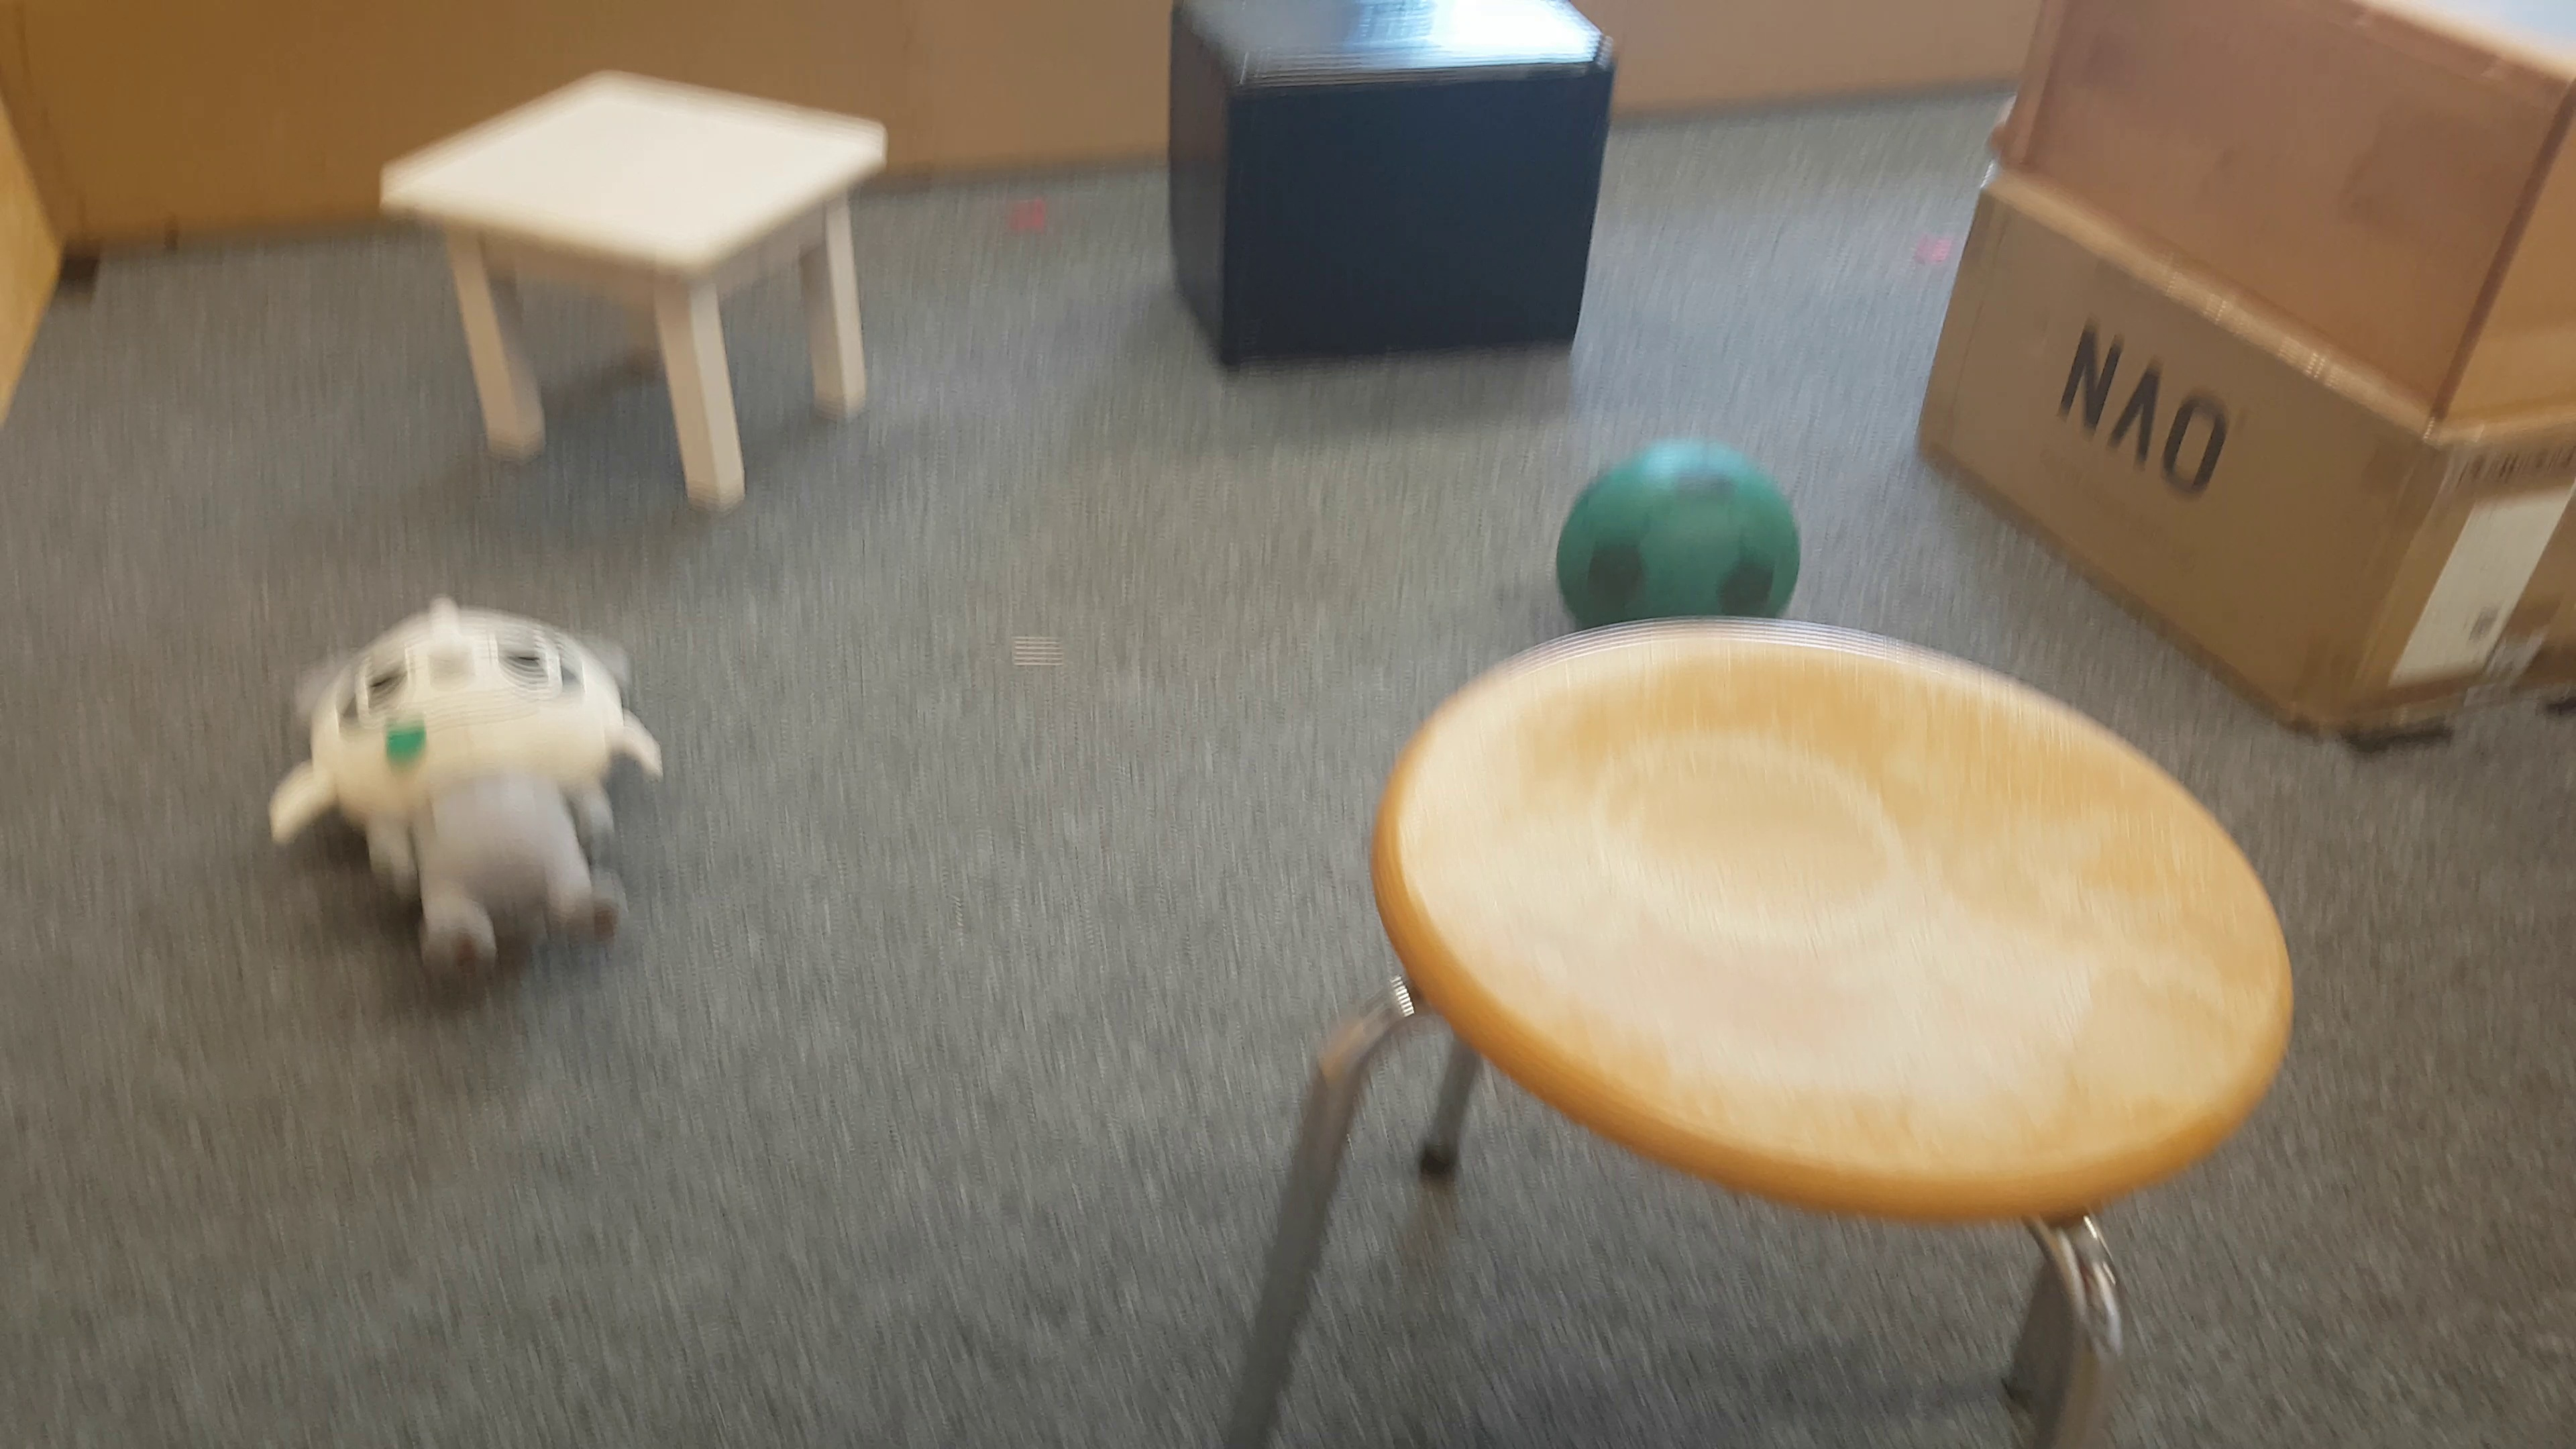grasp: (272, 594, 656, 991)
kick: (1557, 446, 1796, 617)
push: (1171, 4, 1621, 375)
